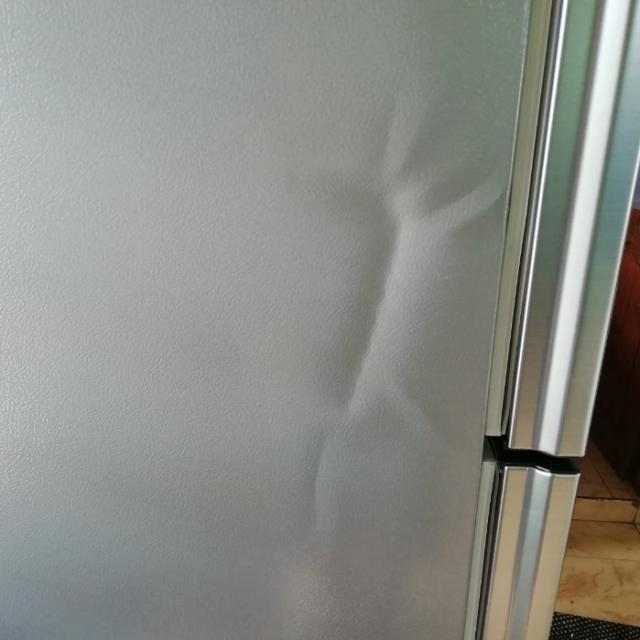dents: (311, 71, 479, 566)
